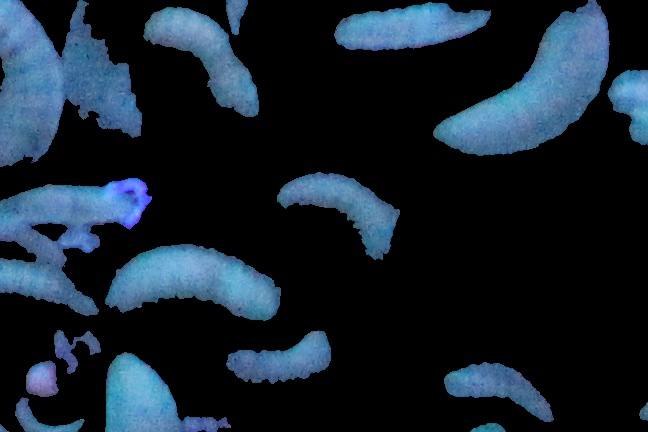larvae: (431, 1, 610, 160), (146, 1, 264, 125), (100, 244, 290, 320), (272, 166, 404, 262), (1, 1, 66, 181), (221, 314, 336, 398), (322, 1, 495, 52), (437, 360, 557, 419), (1, 256, 93, 322), (1, 181, 124, 222)
